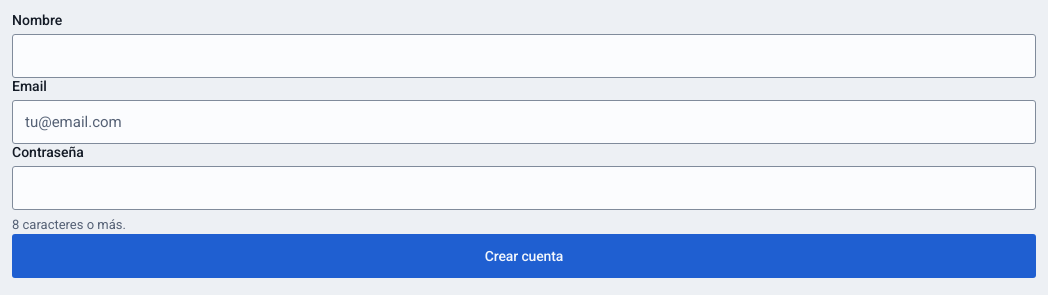
Test: RegisterForm › asks for a password of 8 characters or more before sending anything
Type "Lucía Ferrer" into the field labelled "Nombre" at (524,56), box [12,34,1036,78]
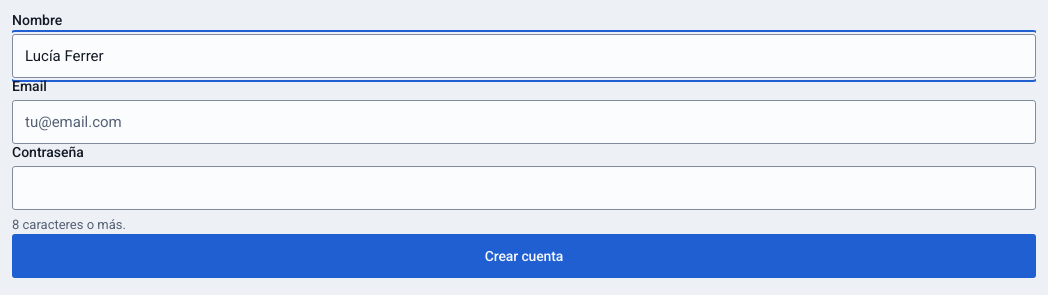
Type "lucia@example.com" into the field labelled "Email" at (524,122), box [12,100,1036,144]
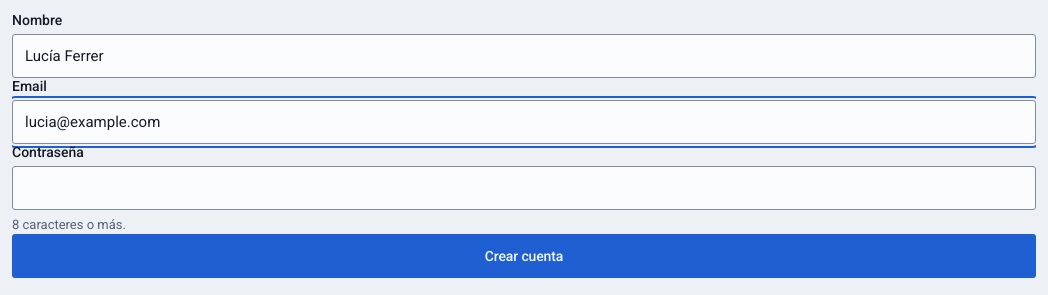
Type "abc123" into the password field labelled "Contraseña" at (524,188), box [12,166,1036,210]
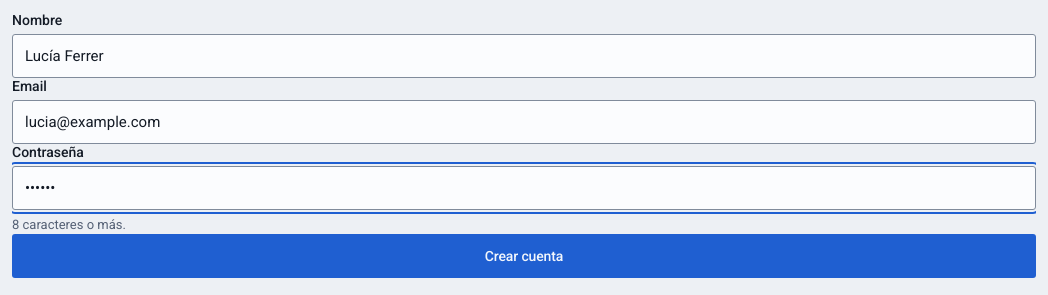
Click the button "Crear cuenta" at (524,256), box [12,234,1036,278]
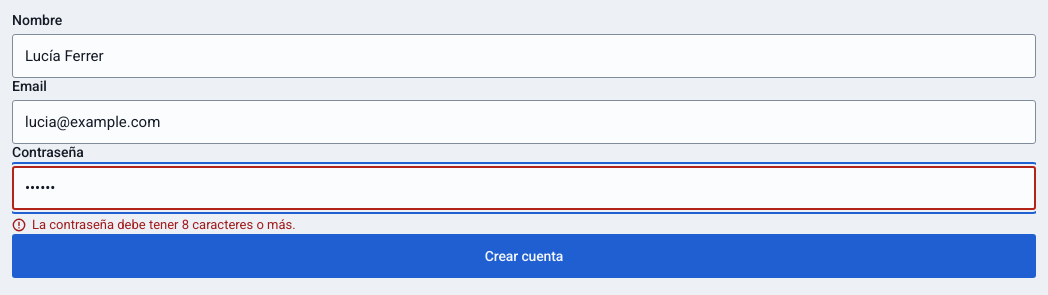
Check: the text "La contraseña debe tener 8 caracteres o más." is shown, box [32,216,296,234]
